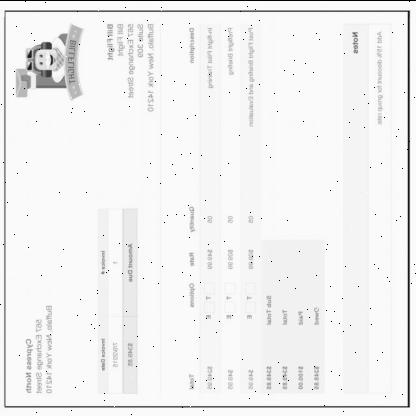Paragraph: (98, 208, 138, 392), (264, 290, 324, 395), (103, 18, 160, 114), (346, 23, 390, 130), (20, 298, 57, 398)
Table: (182, 20, 262, 400)
